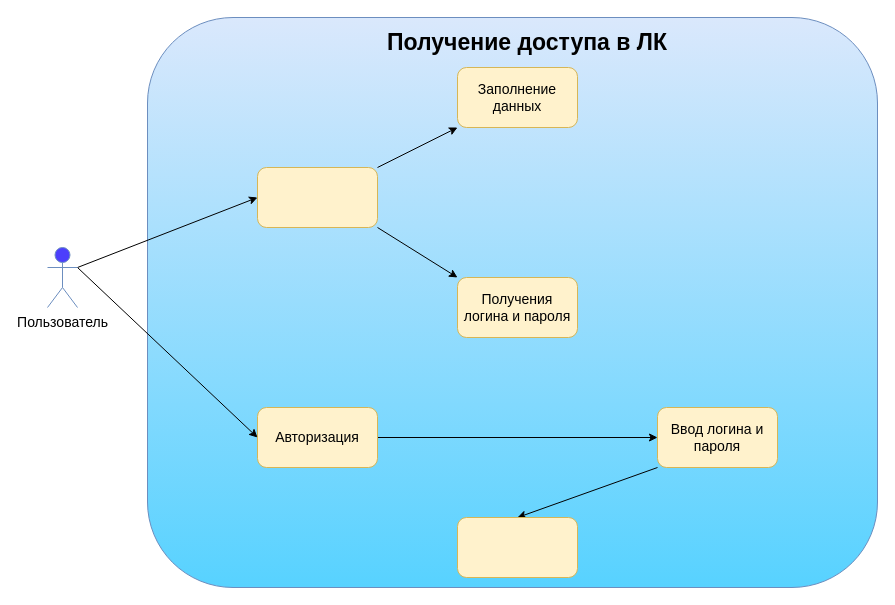
Image size: 895x605. Some labels were removed from this diagram. Each missing label, with the centre of its shape:
"Вход в ЛК" belongs at (x=517, y=547).
"Запрос создания пользователя у администратора" belongs at (x=317, y=197).
